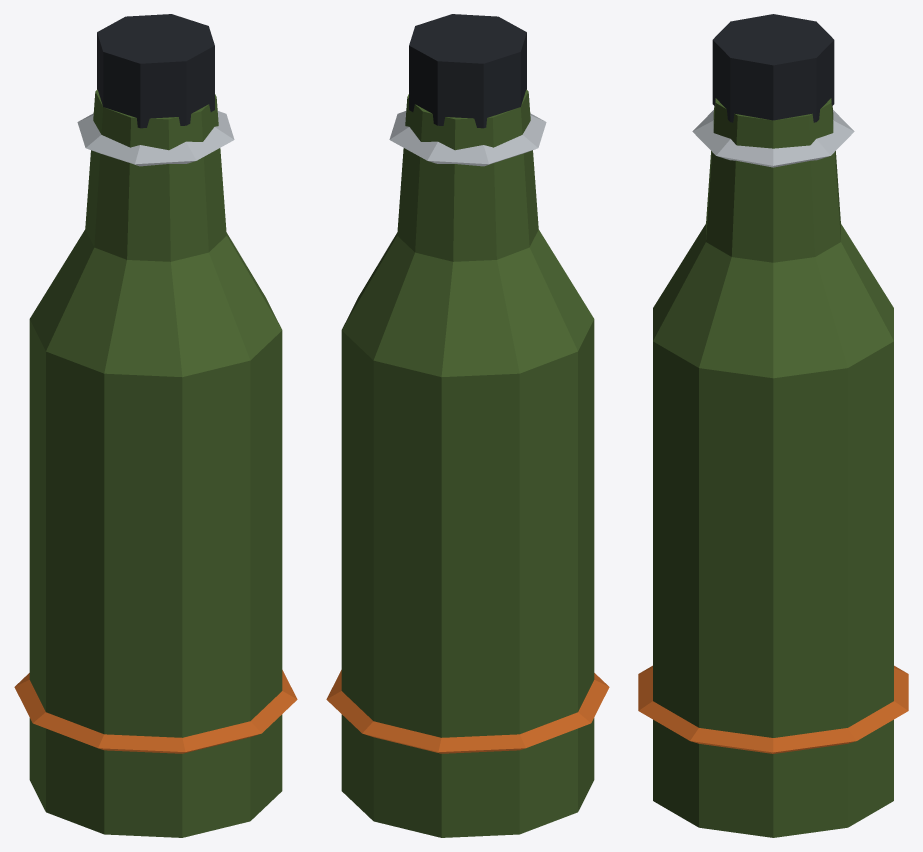
Rendered from novanian-grog.glb.
The picture shows the model from 3 angles, left to right: view 1: azimuth 30°, elevation 25°; view 2: azimuth 150°, elevation 25°; view 3: azimuth 270°, elevation 25°; orthographic projection.
Visible parts, largest first — view 1: m; view 2: m; view 3: m.
Part boxes in pixels (x1,y1,x2,y2): m: [14, 14, 297, 837]; m: [326, 14, 609, 837]; m: [638, 14, 908, 837].
Bounding box in the file's own units: 0.056 × 0.162 × 0.0533.
